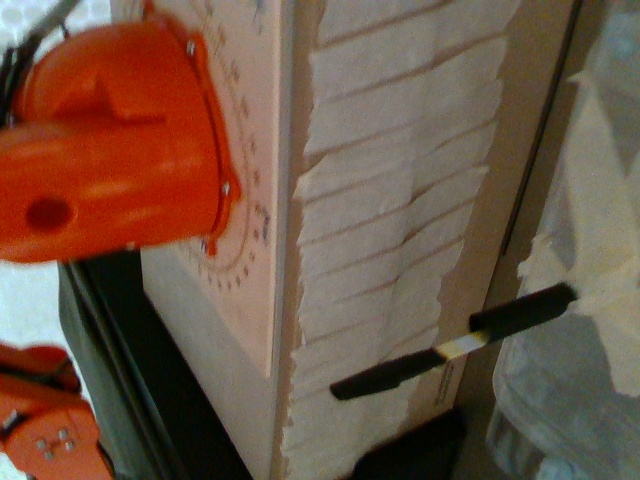test_strip: (328, 331, 485, 399)
